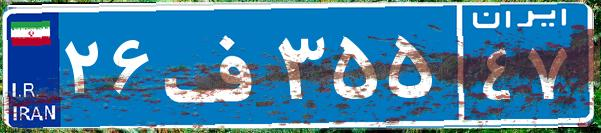2: (57, 26, 110, 107)
3: (273, 28, 330, 110)
4: (475, 38, 525, 113)
5: (385, 28, 445, 110), (330, 28, 385, 110)
6: (110, 28, 158, 105)
7: (525, 38, 570, 115)
ف: (158, 15, 273, 115)
